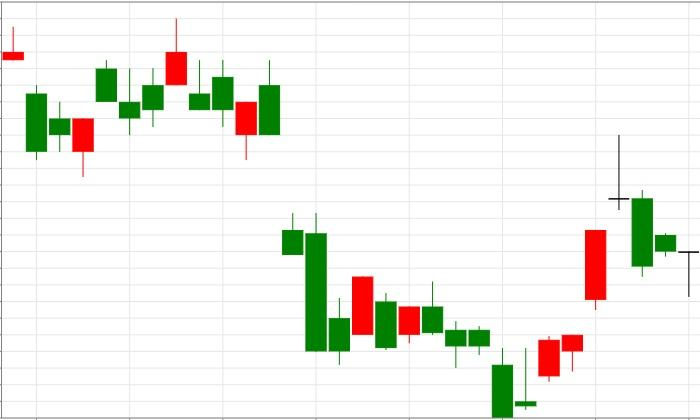evening_star_fall: (492, 136, 653, 417)
